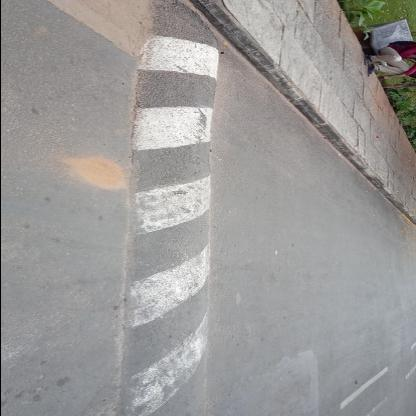speed-bumps: (119, 1, 222, 415)
